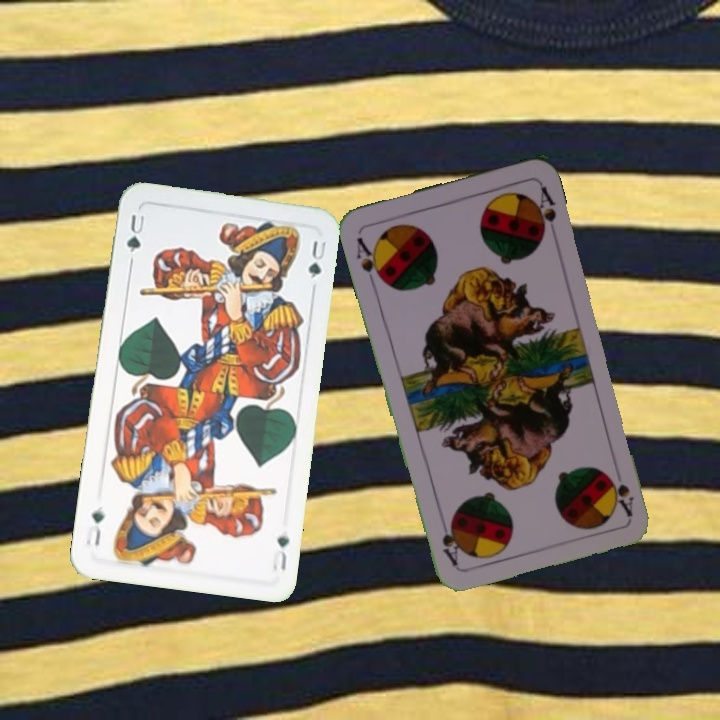GU: (122, 211, 147, 255), (268, 531, 292, 573)
SA: (352, 233, 387, 288), (605, 471, 637, 519)
